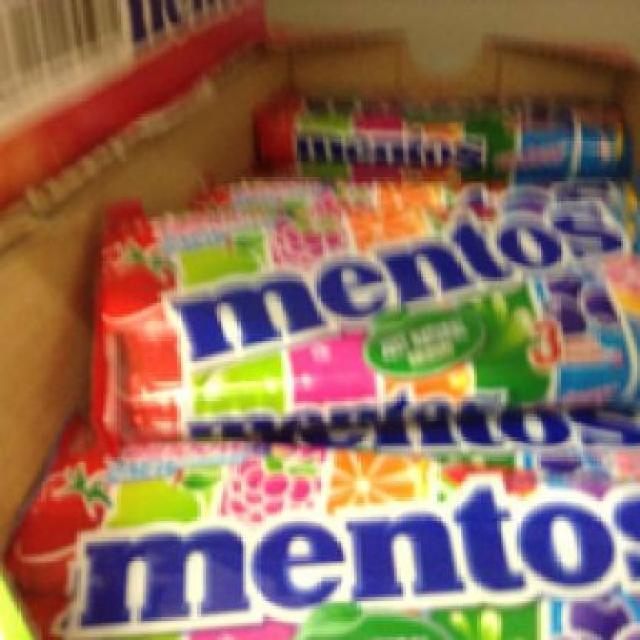Candy: (14, 426, 626, 632), (109, 188, 632, 428), (254, 80, 637, 171)
